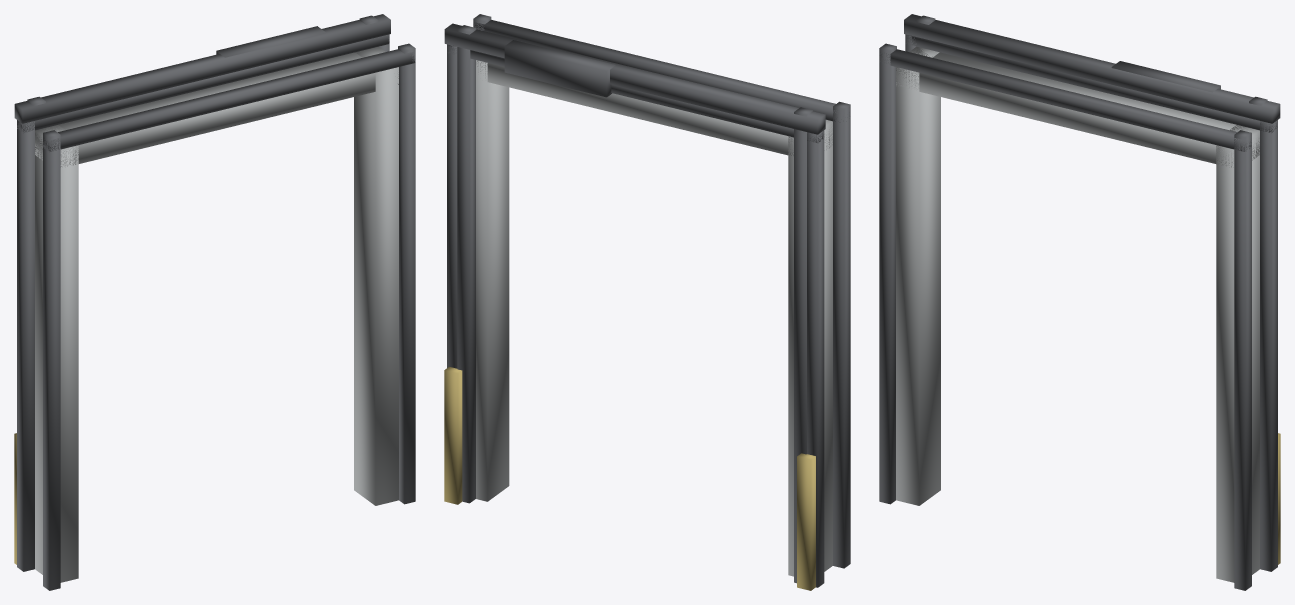
File: bay_opening_loading_bay_w240_h320_d30.glb
3 views of the same model, side by side, from view 1: azimuth 30°, elevation 25°; view 2: azimuth 150°, elevation 25°; view 3: azimuth 330°, elevation 25° (orthographic).
Visible parts, largest first — view 1: world; view 2: world; view 3: world.
Part boxes in pixels (bbox=[...]): world: bbox=[14, 14, 415, 590]; world: bbox=[444, 14, 850, 590]; world: bbox=[879, 14, 1280, 590].
Size of the model in its own units: 2.98 by 3.59 by 0.522.
